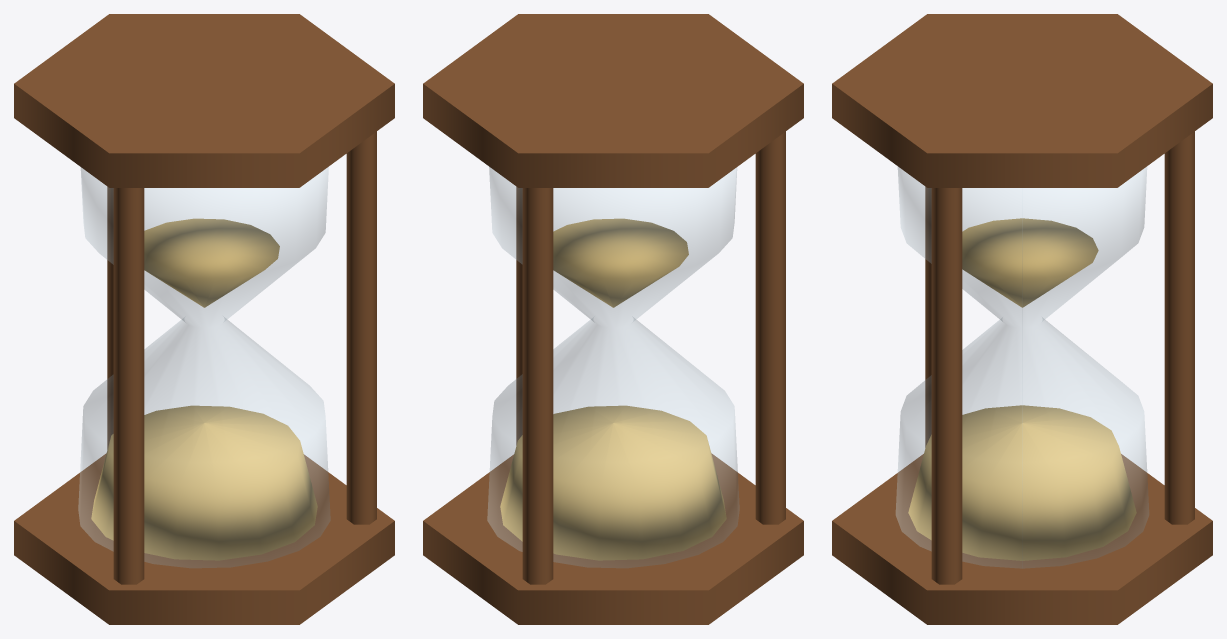
Rendered from Hourglass3D.glb.
3 renders of one model, left to right at view 1: azimuth 30°, elevation 25°; view 2: azimuth 150°, elevation 25°; view 3: azimuth 270°, elevation 25°, orthographic.
Visible parts, largest first — view 1: Body, Glass; view 2: Body, Glass; view 3: Body, Glass.
Part boxes in pixels (bbox=[...]): Body: bbox=[14, 14, 394, 624]; Glass: bbox=[78, 167, 330, 567]; Body: bbox=[423, 14, 803, 624]; Glass: bbox=[487, 167, 739, 567]; Body: bbox=[832, 14, 1212, 624]; Glass: bbox=[896, 167, 1148, 568].
Bounding box in the file's own units: 1.3 × 2.05 × 1.5.
2 materials, 1 textured.
